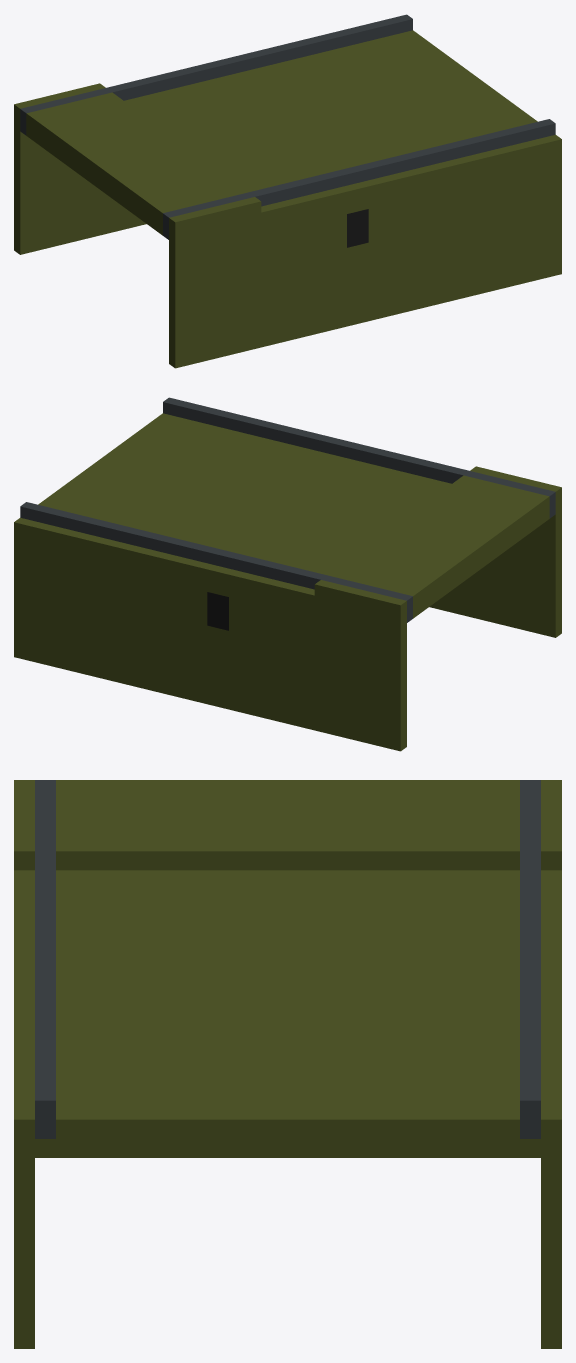
Rendered from army_jeep_bonnet.glb.
The picture shows the model from 3 angles, top to bottom: view 1: azimuth 30°, elevation 25°; view 2: azimuth 150°, elevation 25°; view 3: azimuth 270°, elevation 25°; orthographic projection. The views are drawn at different scales.
Parts seen in each view (by area): view 1: body:compound; view 2: body:compound; view 3: body:compound.
Boxes of the visible parts, bbox=[...] form: body:compound: bbox=[14, 14, 561, 368]; body:compound: bbox=[14, 397, 561, 751]; body:compound: bbox=[14, 780, 561, 1348].
Size of the model in its own units: 1.12 by 0.4062 by 0.8125.
